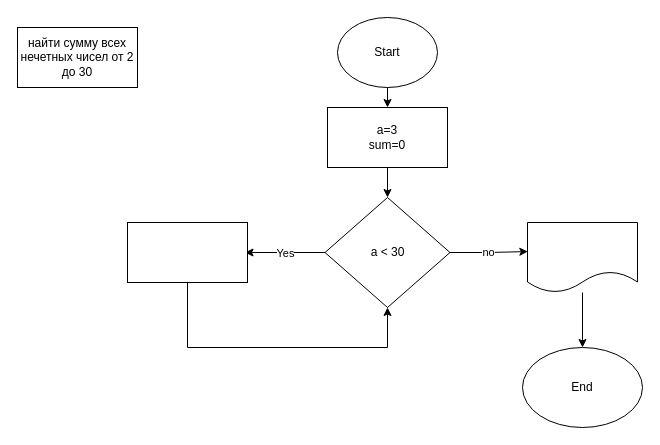
This 660x445 diagram has some shape labels left out. The box of each missing label's shape, as (x1, y1, x2, y2) in pixels:
sum: (526, 222, 638, 292)
sum=a+sum a=a+2: (126, 222, 248, 282)
